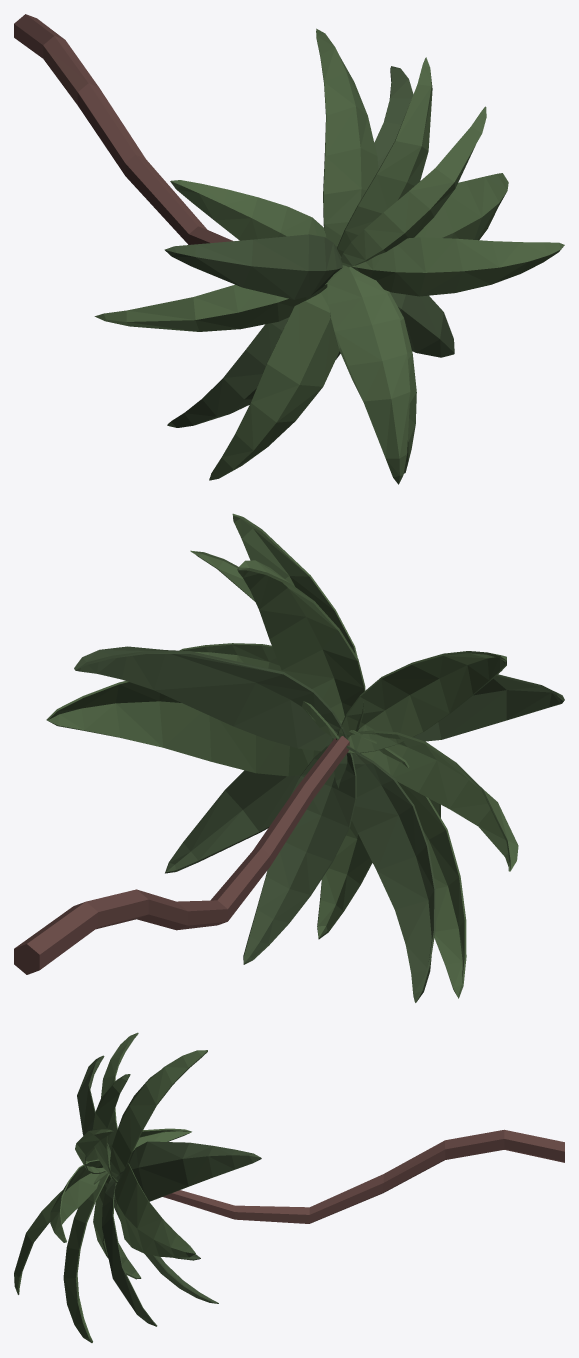
The model's file is tree-palm-1-35-ft.obj.
3 views of the same model, one above another, from view 1: azimuth 30°, elevation 25°; view 2: azimuth 150°, elevation 25°; view 3: azimuth 270°, elevation 25° (orthographic). The views are drawn at different scales.
Visible parts, largest first — view 1: tree-palm-1-35-ft; view 2: tree-palm-1-35-ft; view 3: tree-palm-1-35-ft.
Boxes of the visible parts, <box> form: tree-palm-1-35-ft: <box>14,14,564,484</box>; tree-palm-1-35-ft: <box>14,513,564,1002</box>; tree-palm-1-35-ft: <box>14,1032,564,1342</box>.
Size of the model in its own units: 270 by 245 by 420.
